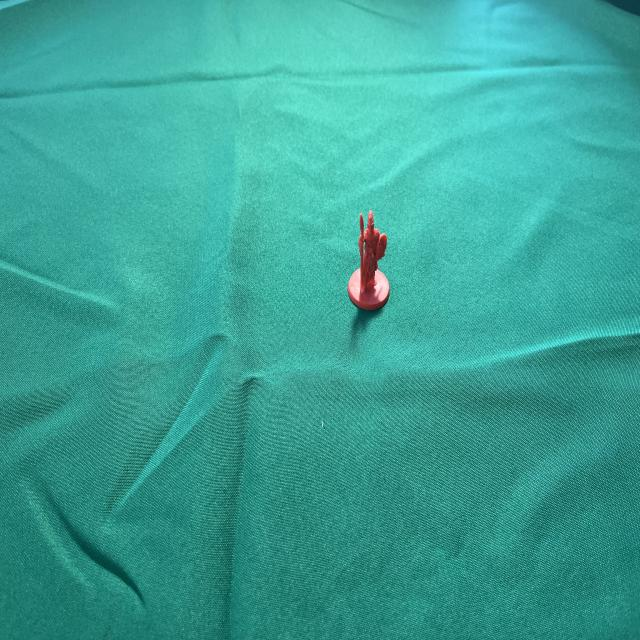amon_follower: (348, 210, 389, 310)
